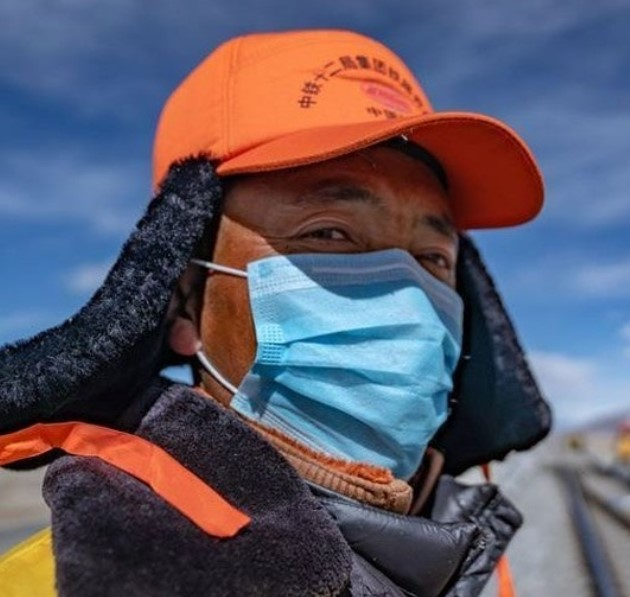face_with_mask: (157, 32, 535, 494)
